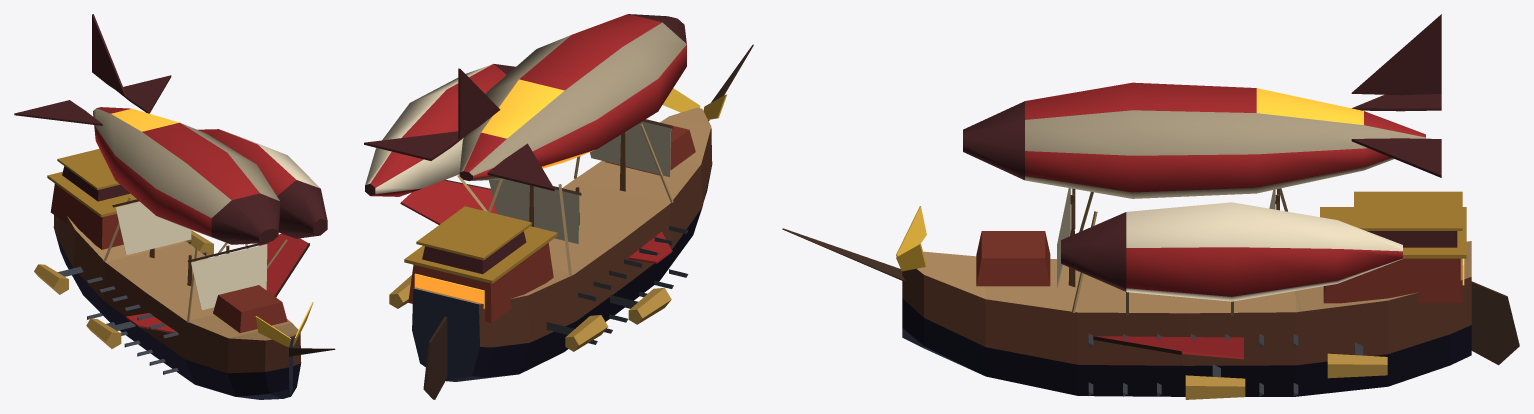
The model's file is SM_Ship_SovereignGaleWrecked_LQ.glb.
3 renders of one model, left to right at view 1: azimuth 30°, elevation 25°; view 2: azimuth 150°, elevation 25°; view 3: azimuth 270°, elevation 25°, orthographic. The views are drawn at different scales.
Parts seen in each view (by area): view 1: SM_Ship_SovereignGaleWrecked_LQ; view 2: SM_Ship_SovereignGaleWrecked_LQ; view 3: SM_Ship_SovereignGaleWrecked_LQ.
Boxes of the visible parts, <box> form: SM_Ship_SovereignGaleWrecked_LQ: <box>14,14,335,399</box>; SM_Ship_SovereignGaleWrecked_LQ: <box>364,14,753,399</box>; SM_Ship_SovereignGaleWrecked_LQ: <box>782,14,1519,399</box>.
Size of the model in its own units: 21.25 by 27.6 by 49.23.
1 material, 1 textured.
